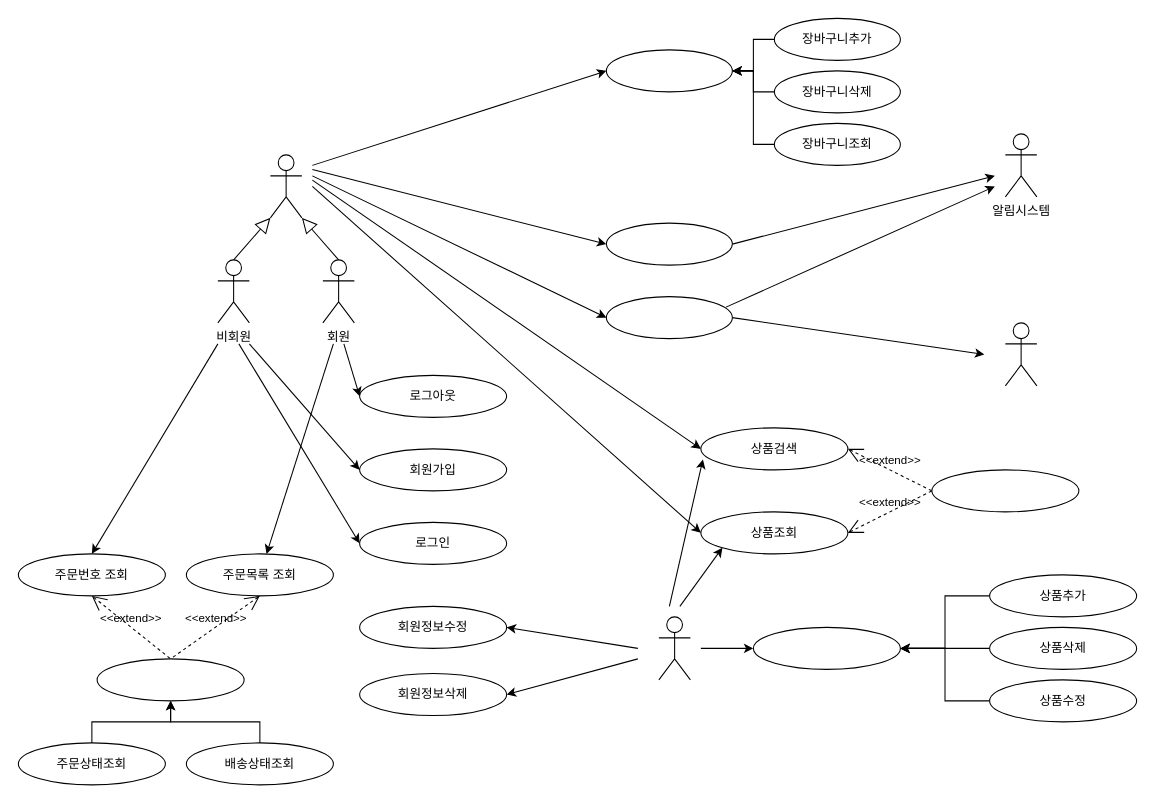
Image size: 1155x803. Some labels were removed from this diagram. The box of each missing label's shape, as (x1, y1, x2, y2) in pixels:
고객: (269, 154, 302, 218)
관리자: (658, 616, 690, 680)
배송시스템: (1004, 322, 1037, 386)
상품결제: (605, 296, 732, 339)
상품관리: (752, 626, 900, 669)
상품상세정보: (931, 469, 1079, 512)
상품주문: (605, 222, 732, 265)
장바구니: (605, 49, 732, 92)
주문상세조회: (96, 658, 244, 701)
